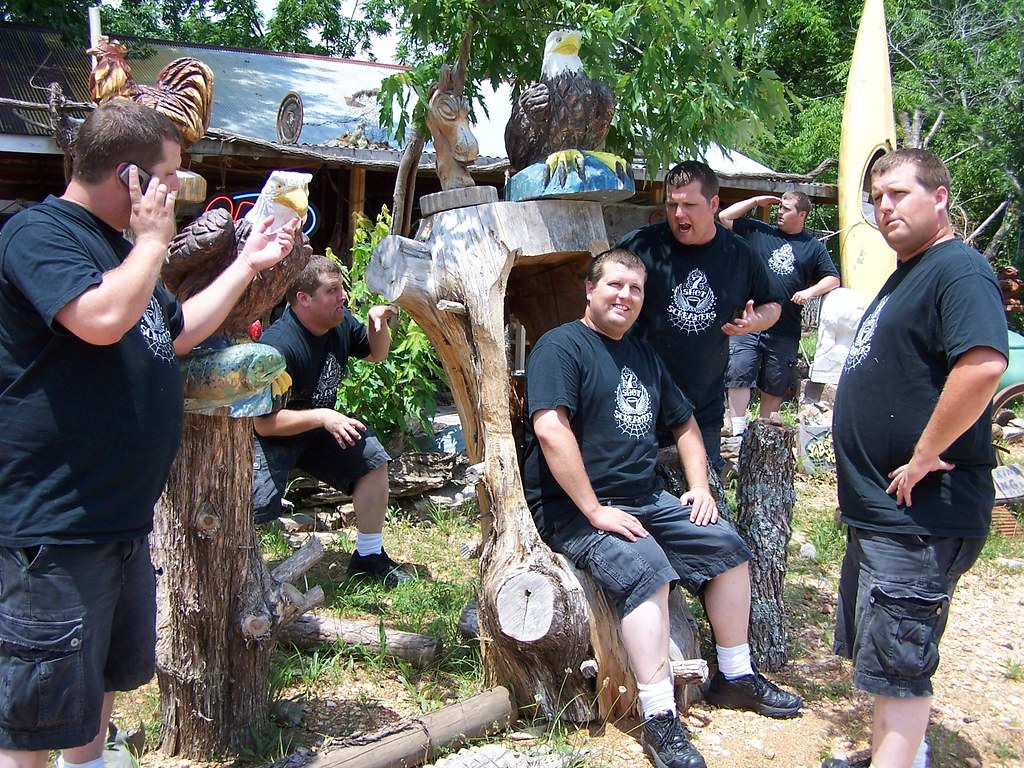phone: (126, 169, 167, 223)
talk: (97, 145, 194, 246)
